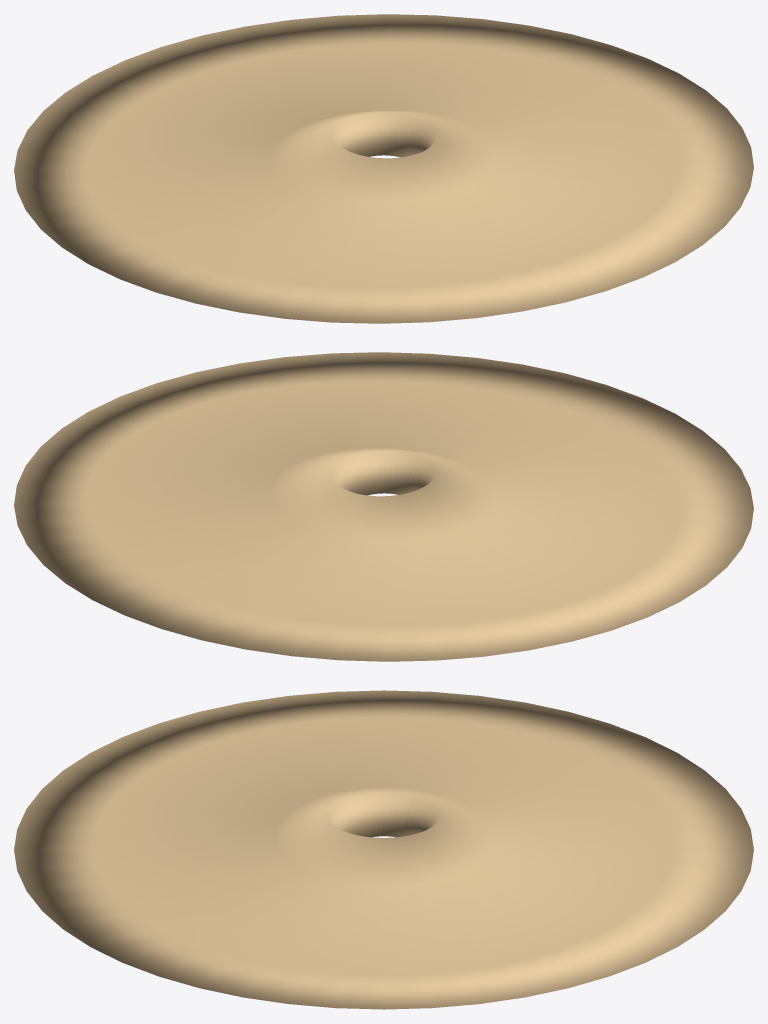
Rendered from Mound-Worm.fbx.
The picture shows the model from 3 angles, top to bottom: view 1: azimuth 30°, elevation 25°; view 2: azimuth 150°, elevation 25°; view 3: azimuth 270°, elevation 25°; orthographic projection.
Parts seen in each view (by area): view 1: Torus.001; view 2: Torus.001; view 3: Torus.001.
Part boxes in pixels (box(x1,y1,x2,y2)): Torus.001: box(14, 14, 753, 323); Torus.001: box(14, 352, 753, 661); Torus.001: box(14, 690, 753, 1009).
Size of the model in its own units: 71.56 by 3.53 by 70.13.
